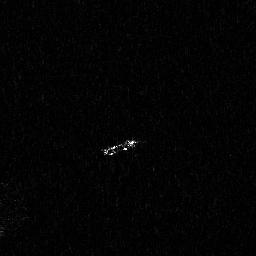ship: (101, 138, 139, 156)
